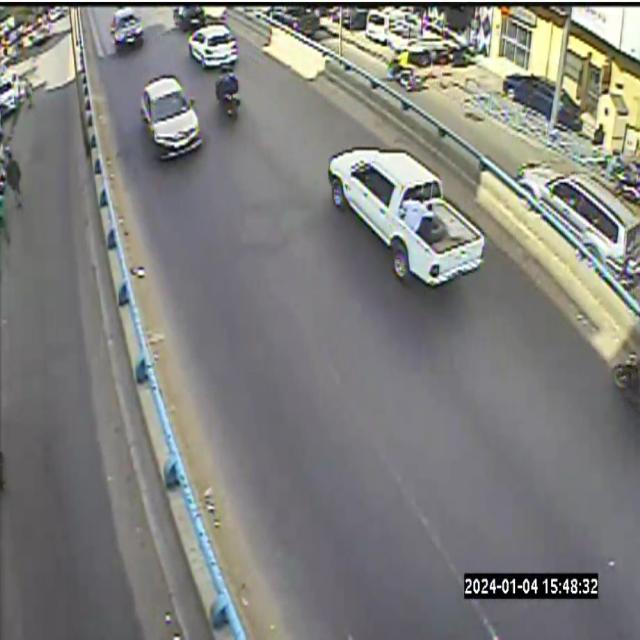car: (328, 147, 484, 286), (518, 163, 639, 287), (141, 77, 201, 156), (189, 24, 238, 67), (110, 7, 143, 52)
